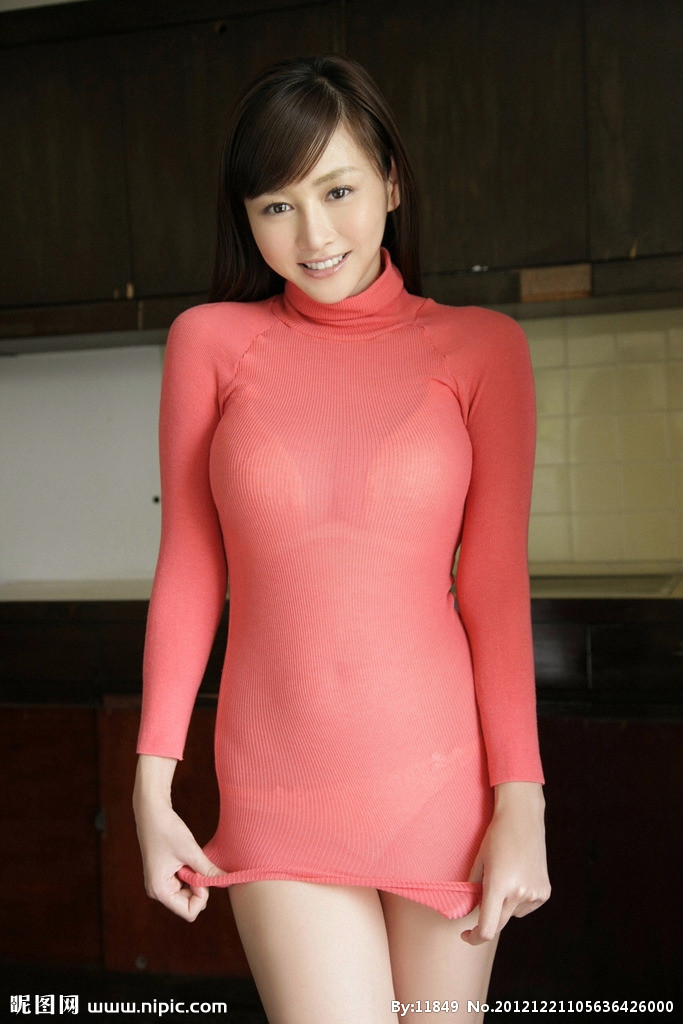person: (156, 74, 640, 774)
